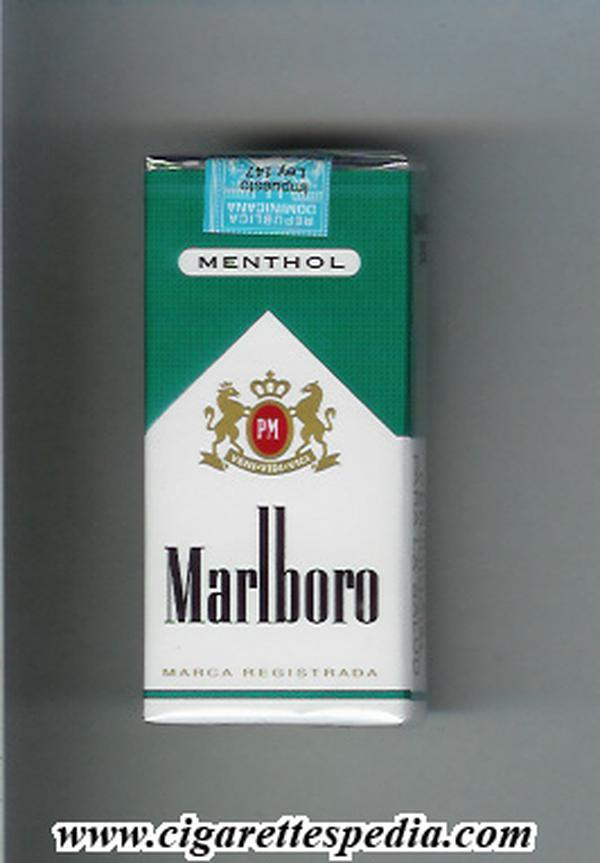marlboro_mentol: (143, 162, 405, 724)
